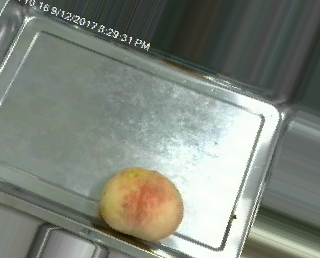Peach: (98, 166, 184, 241)
